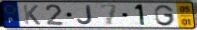1: (133, 4, 147, 27)
2: (45, 4, 66, 27)
7: (99, 4, 119, 27)
G: (153, 4, 177, 27)
J: (77, 5, 95, 26)
K: (22, 4, 42, 26)
